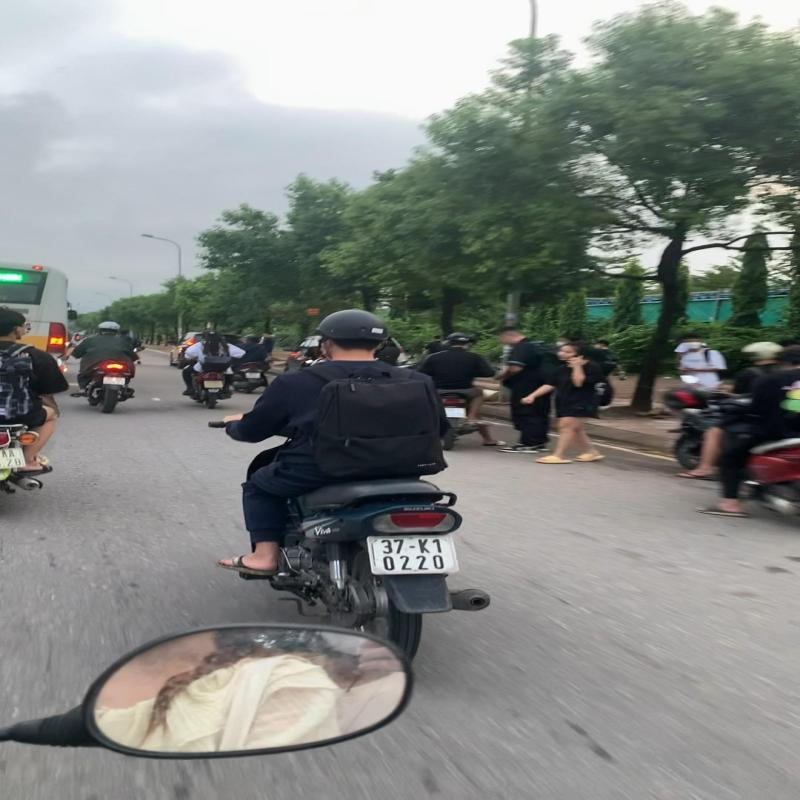helmet: (314, 307, 390, 353)
licenseplate: (362, 532, 462, 576)
motorcyclist: (209, 306, 503, 672)
